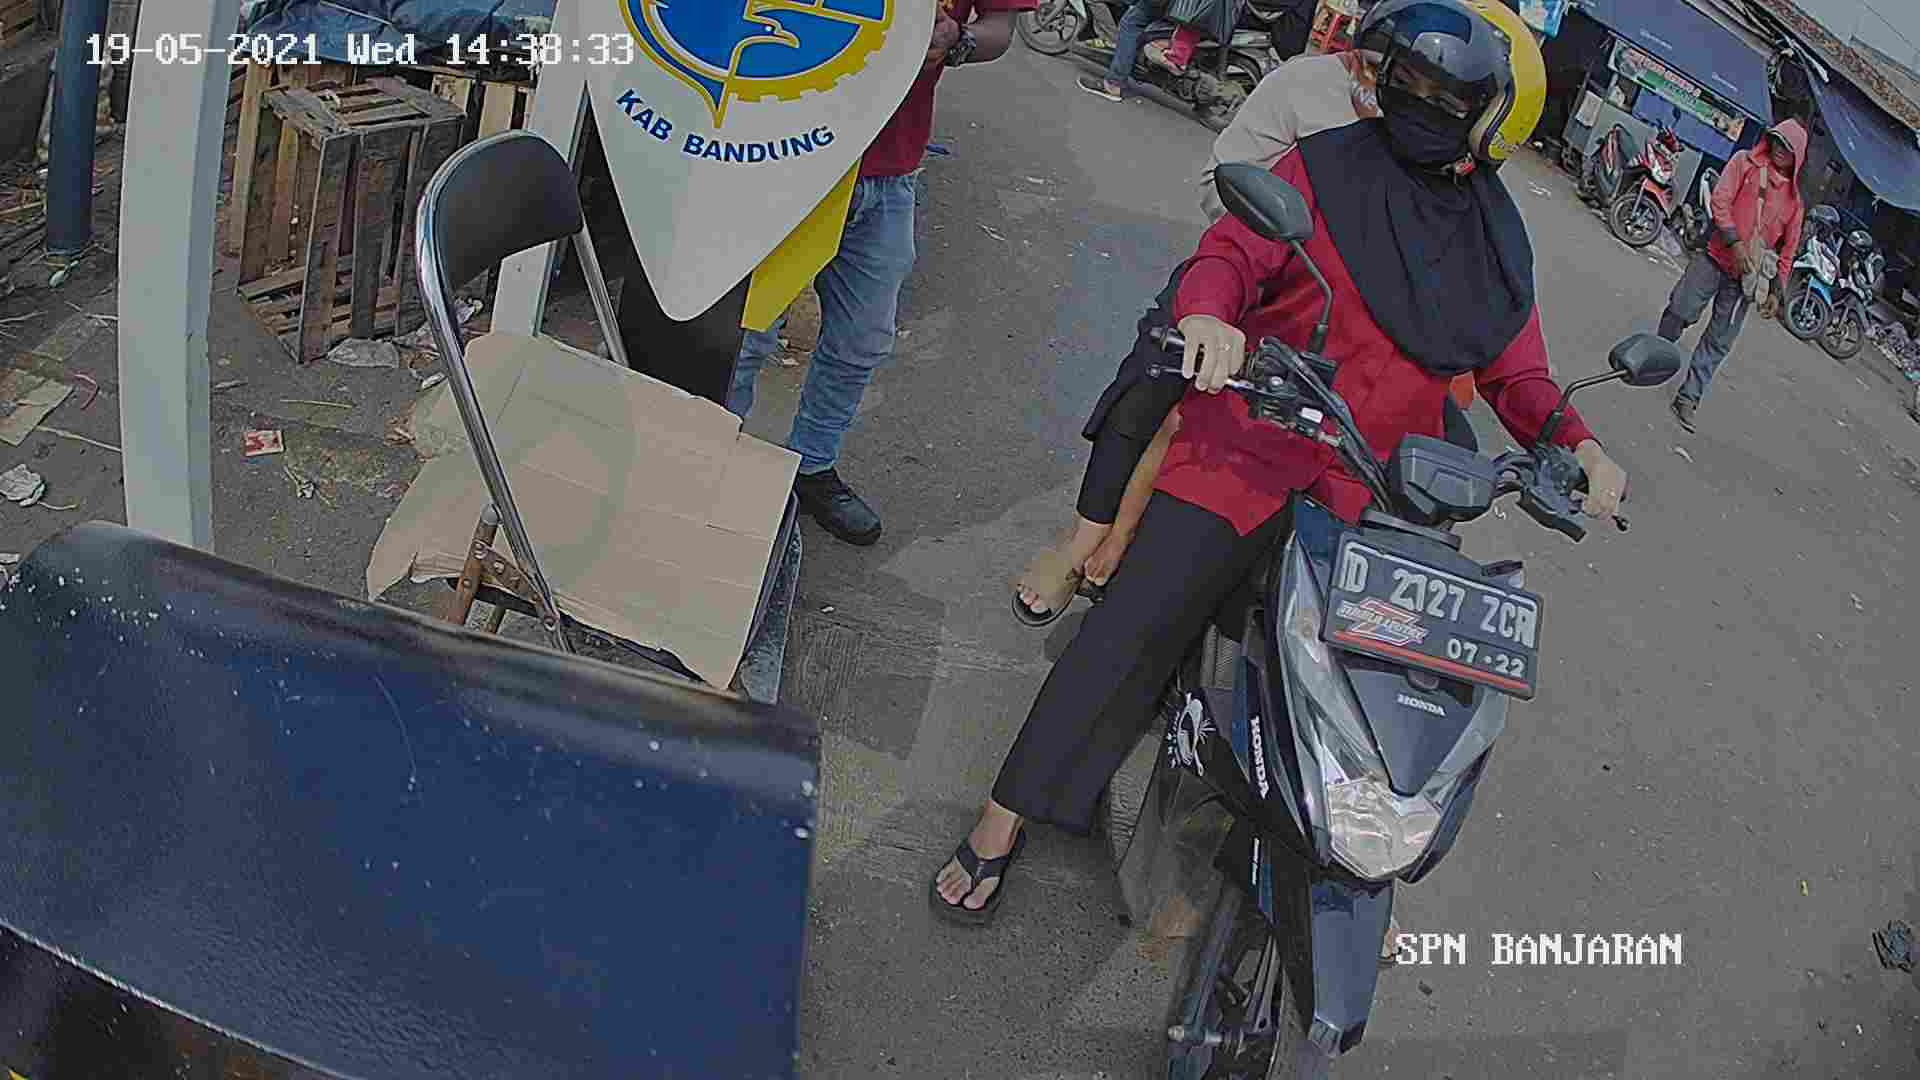motor: (1102, 363, 1534, 1080)
